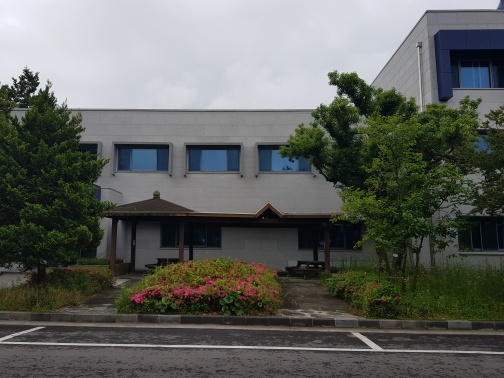College of Social Sciences: (62, 17, 493, 278), (71, 84, 346, 283)
